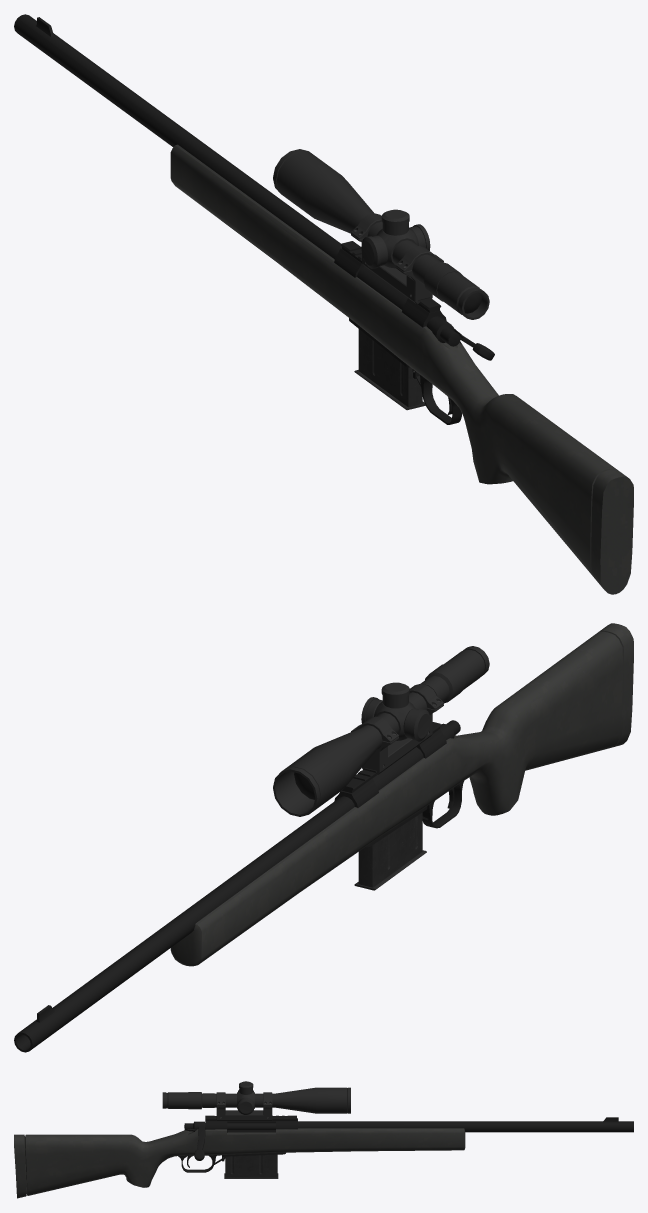
3 renders of one model, top to bottom at view 1: azimuth 30°, elevation 25°; view 2: azimuth 150°, elevation 25°; view 3: azimuth 270°, elevation 25°, orthographic. The views are drawn at different scales.
Visible parts, largest first — view 1: m24_body, mag, bolt; view 2: m24_body, mag; view 3: m24_body, mag, bolt.
Boxes of the visible parts, x1,y1,x2,y2 form: m24_body: (14, 14, 633, 594); mag: (354, 329, 425, 410); bolt: (426, 316, 494, 360); m24_body: (14, 623, 633, 1052); mag: (354, 812, 426, 890); m24_body: (14, 1081, 633, 1198); mag: (224, 1154, 278, 1178); bolt: (184, 1121, 275, 1160).
Bounding box in the file's own units: 0.0855 × 0.2214 × 1.09.
8 materials, 3 textured.
